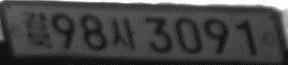0: (174, 16, 202, 54)
1: (235, 17, 260, 56)
3: (143, 16, 173, 53)
8: (79, 13, 108, 50)
9: (203, 17, 230, 55), (52, 12, 75, 49)
경북_V: (23, 9, 51, 49)
사: (110, 16, 138, 50)
